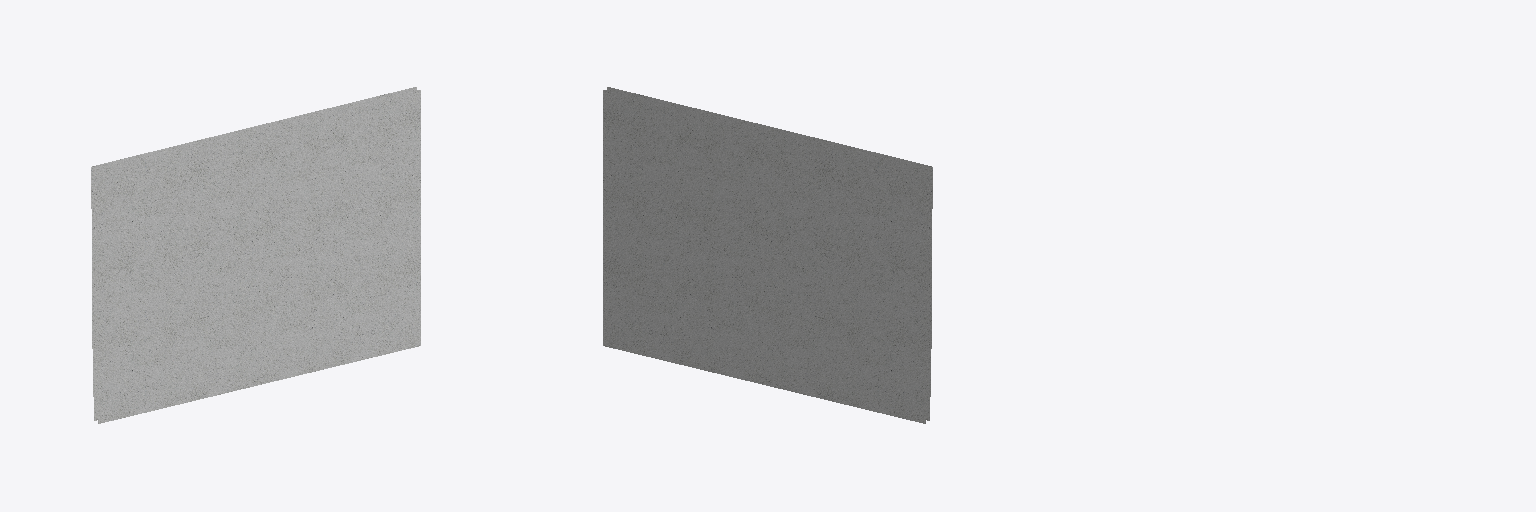
3 renders of one model, left to right at view 1: azimuth 30°, elevation 25°; view 2: azimuth 150°, elevation 25°; view 3: azimuth 270°, elevation 25°, orthographic.
Visible parts, largest first — view 1: floor_3; view 2: floor_3; view 3: none.
Part boxes in pixels (bbox=[...]): floor_3: bbox=[91, 87, 420, 423]; floor_3: bbox=[603, 87, 932, 423].
Bounding box in the file's own units: 4.57 × 3.44 × 0.1.
1 materials, 1 textured.